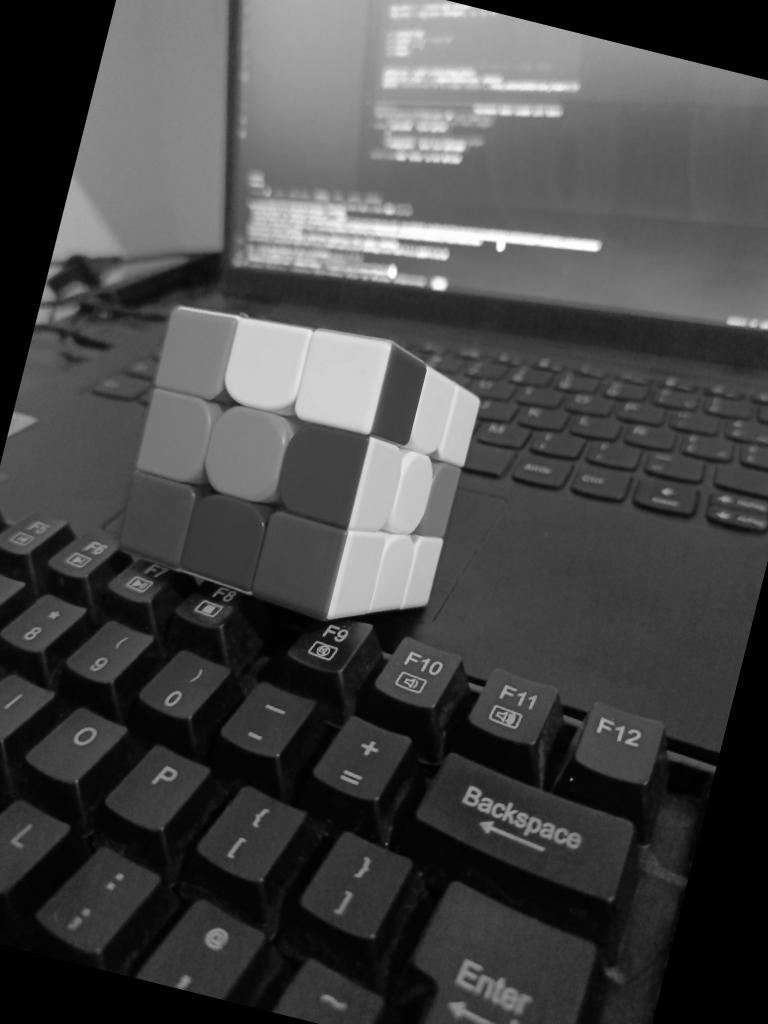rubik: (104, 284, 492, 644)
